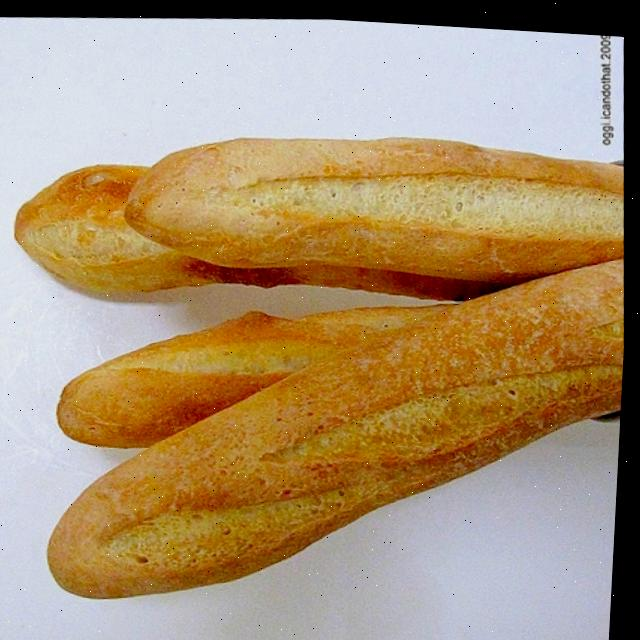面包点心: (0, 23, 638, 640)
